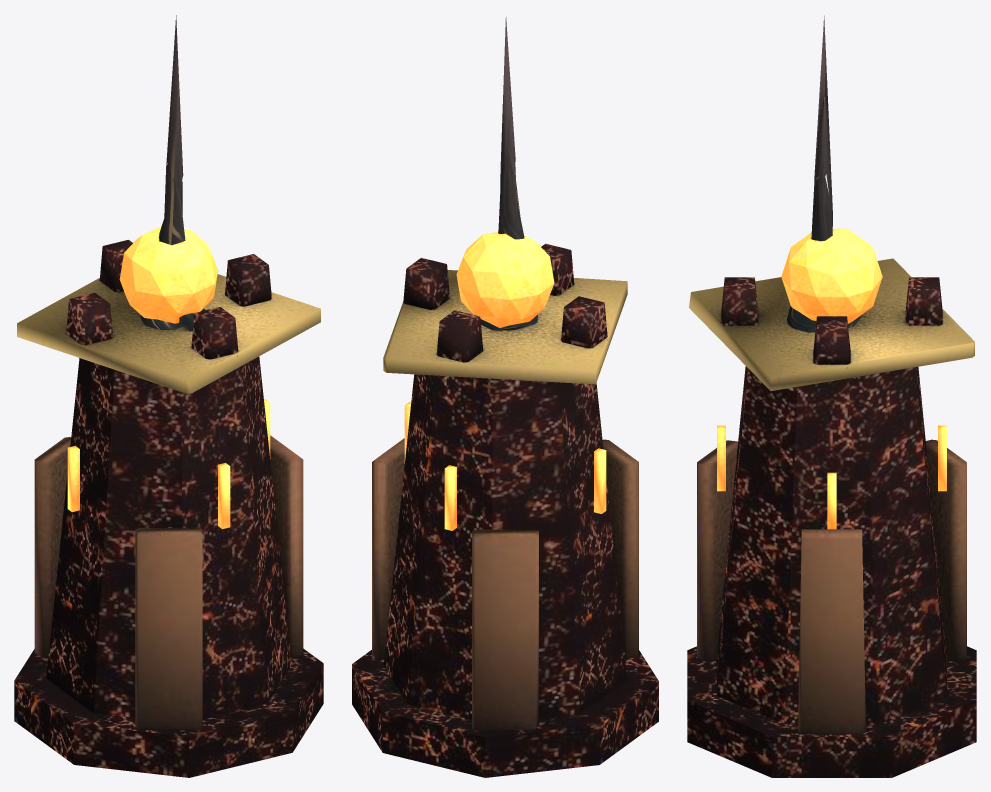
File: tower2_fire.glb
The picture shows the model from 3 angles, left to right: view 1: azimuth 30°, elevation 25°; view 2: azimuth 150°, elevation 25°; view 3: azimuth 270°, elevation 25°; orthographic projection.
Parts seen in each view (by area): view 1: tower2_fire; view 2: tower2_fire; view 3: tower2_fire.
Part boxes in pixels (x1,y1,x2,y2): tower2_fire: (14, 15, 323, 777); tower2_fire: (352, 17, 658, 777); tower2_fire: (687, 15, 976, 777).
Size of the model in its own units: 3.83 by 10.29 by 3.83.
2 materials, 2 textured.
